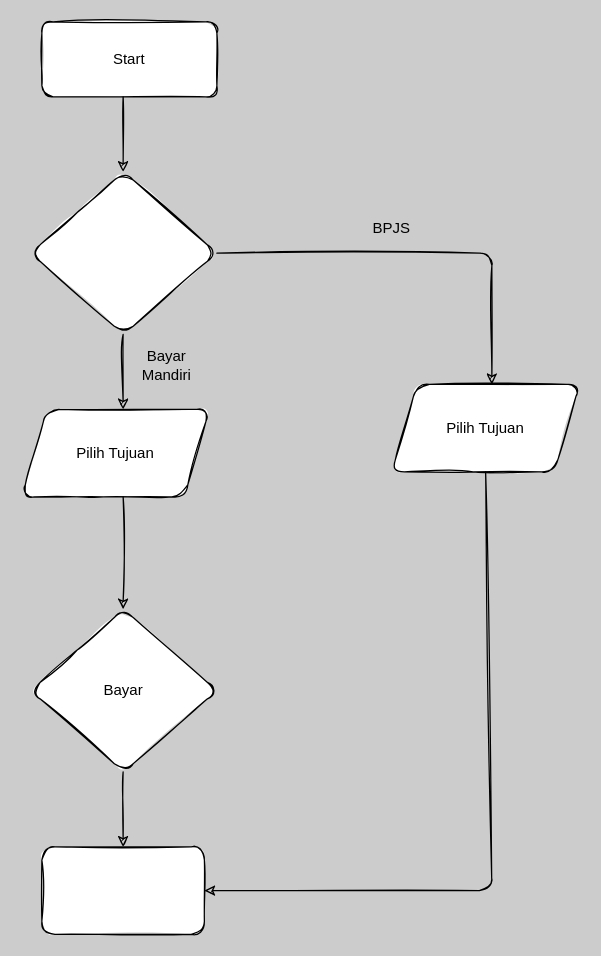
Image size: 601x956. Some labels were removed from this diagram. The shapes that lost their labels are listed below. From the top down, each one's centre as x and y in pixels, then its label:
[123,252]: Pilih Metode
[122,890]: Break
